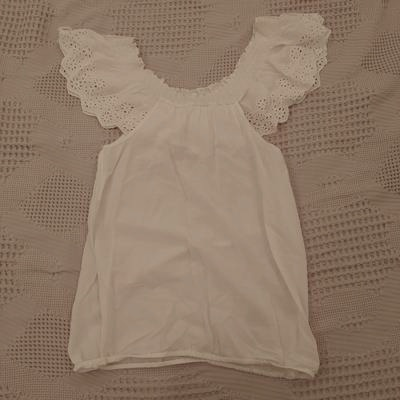Dress: (40, 17, 347, 370)
